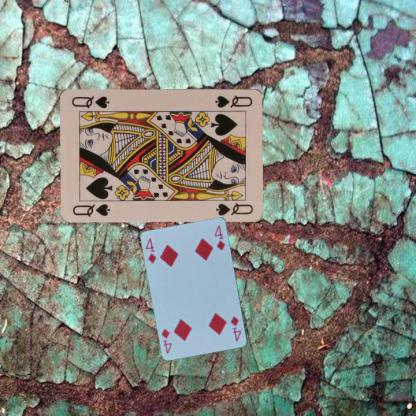4d: (228, 314, 243, 343), (143, 235, 158, 264)
Qs: (70, 201, 112, 218), (212, 92, 254, 108)
